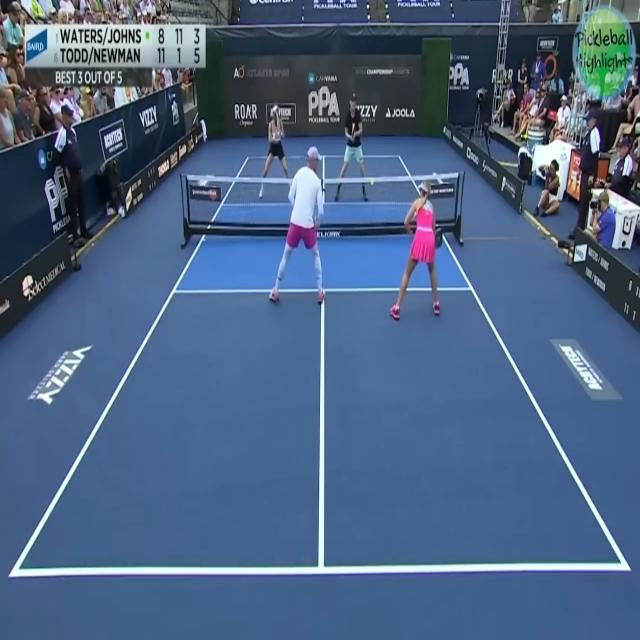Pickleball: (369, 176, 375, 188)
